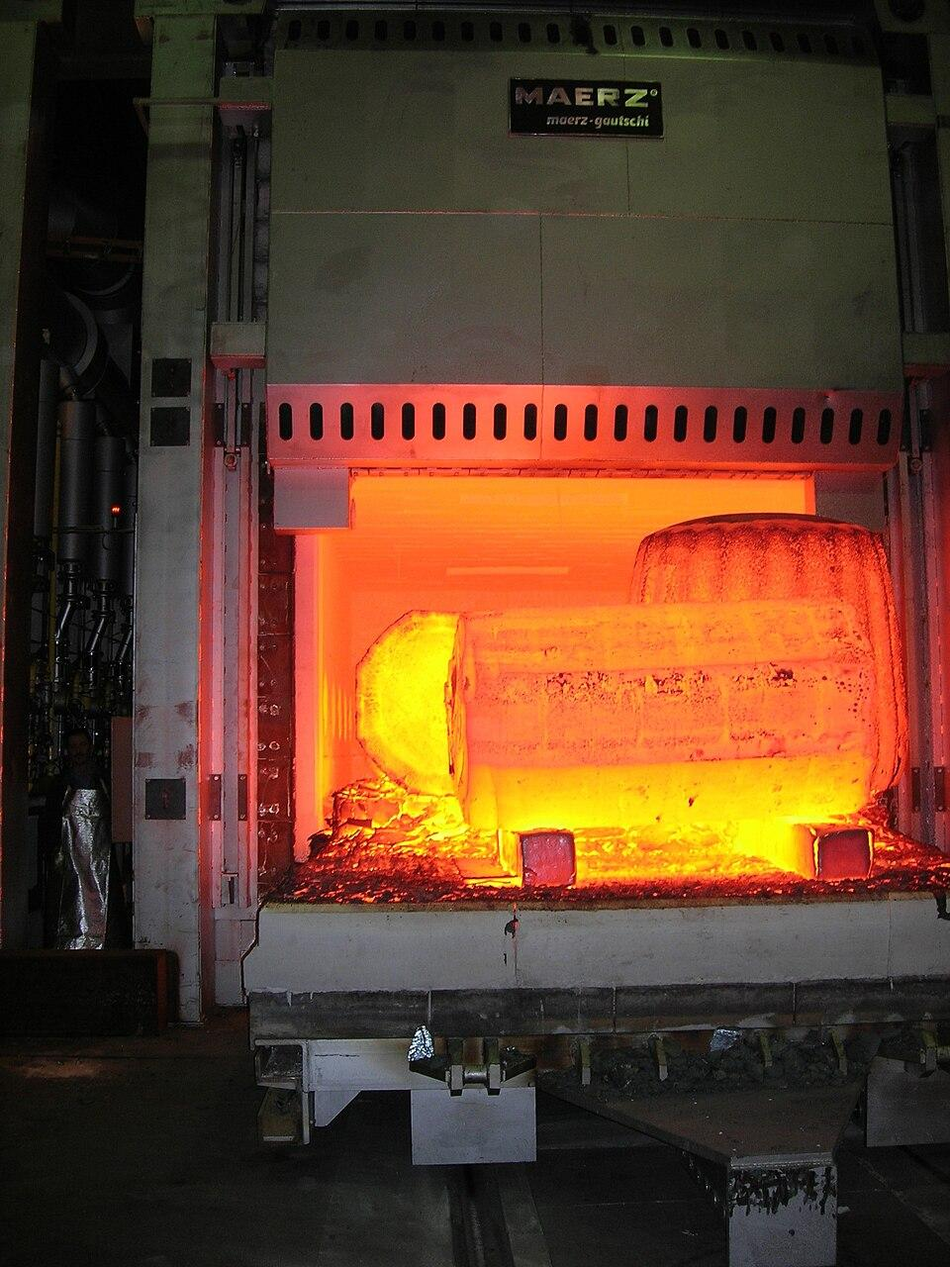controlled_fire: (143, 275, 950, 945)
